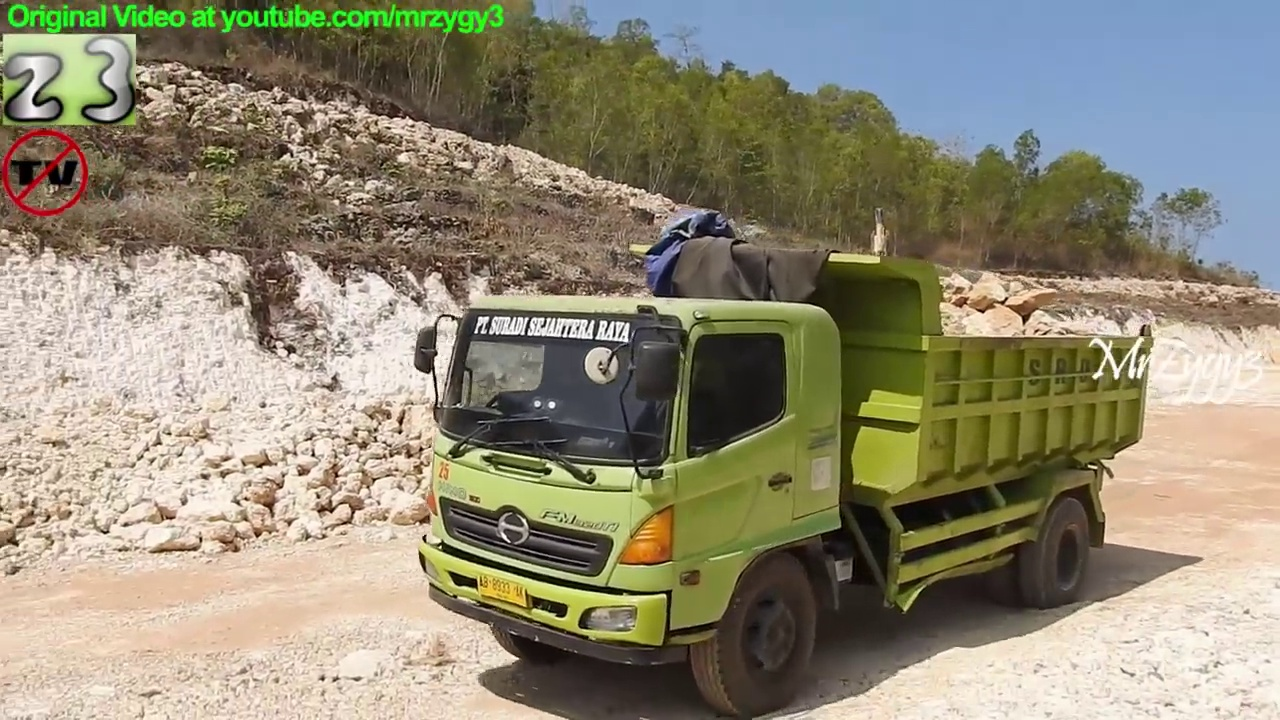excavator: (795, 200, 979, 436)
truck: (407, 233, 1161, 720)
